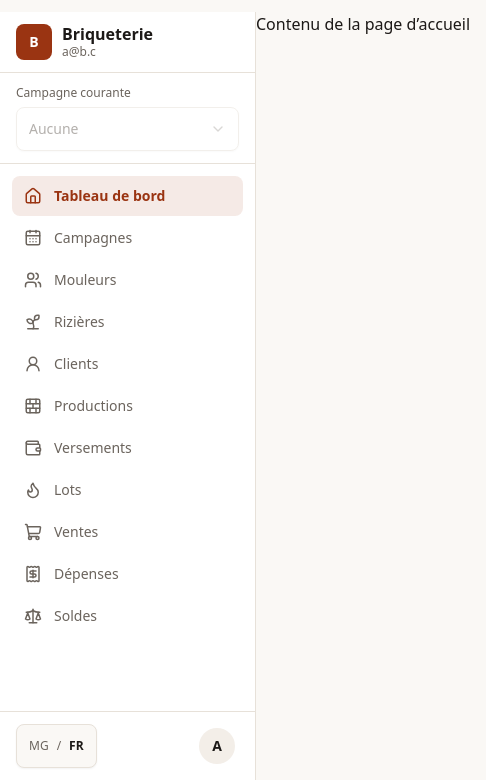
Test: AppShell › switches the language from the header, the button naming what it does
The image size is (486, 780).
Click the button with aria-label "Passer en malagasy" at (56, 746), box [16,724,97,768]
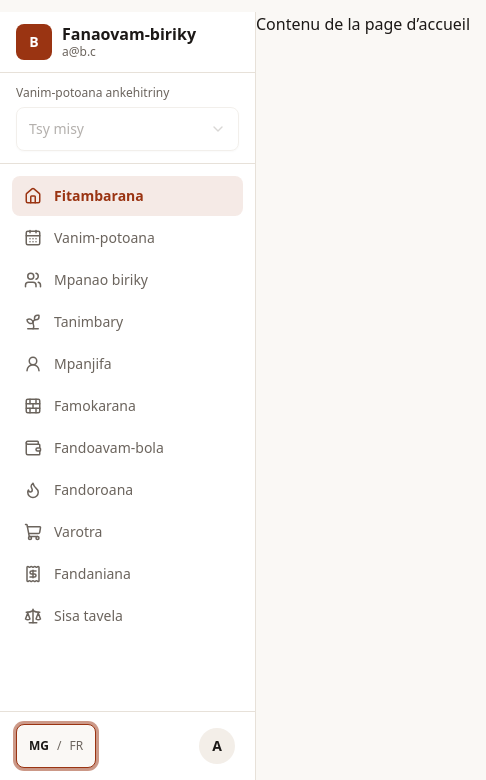
Check: the button with aria-label "Hiova amin’ny teny frantsay" is shown, box [16,724,96,768]
